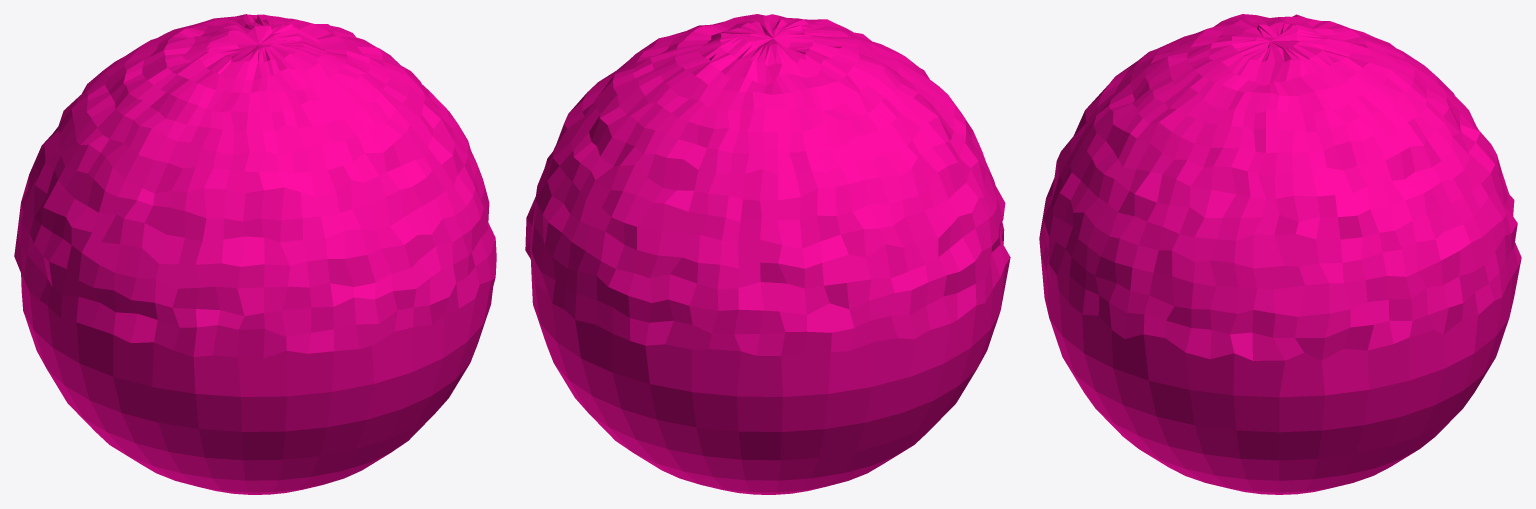
Rendered from steen.glb.
3 renders of one model, left to right at view 1: azimuth 30°, elevation 25°; view 2: azimuth 150°, elevation 25°; view 3: azimuth 270°, elevation 25°, orthographic.
Parts seen in each view (by area): view 1: Sphere; view 2: Sphere; view 3: Sphere.
Part boxes in pixels (<box>): Sphere: <box>14,14,496,494</box>; Sphere: <box>525,14,1010,494</box>; Sphere: <box>1039,14,1521,494</box>.
Size of the model in its own units: 2.01 by 2.02 by 2.02.
